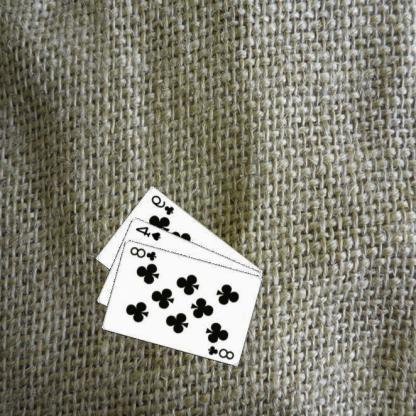4S: (134, 224, 164, 242)
8C: (128, 244, 160, 262), (207, 342, 237, 361)
9C: (150, 192, 177, 216)
